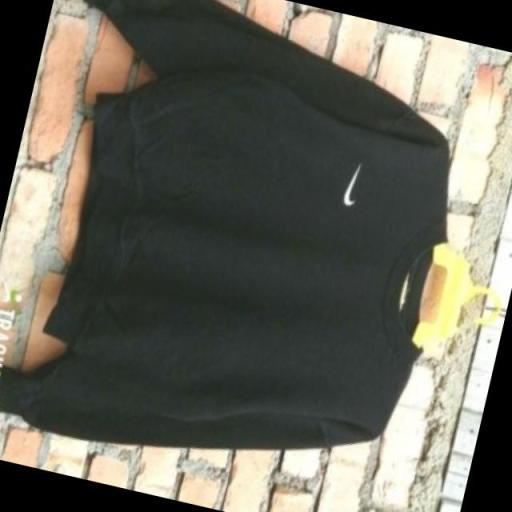Nike: (338, 158, 364, 210)
